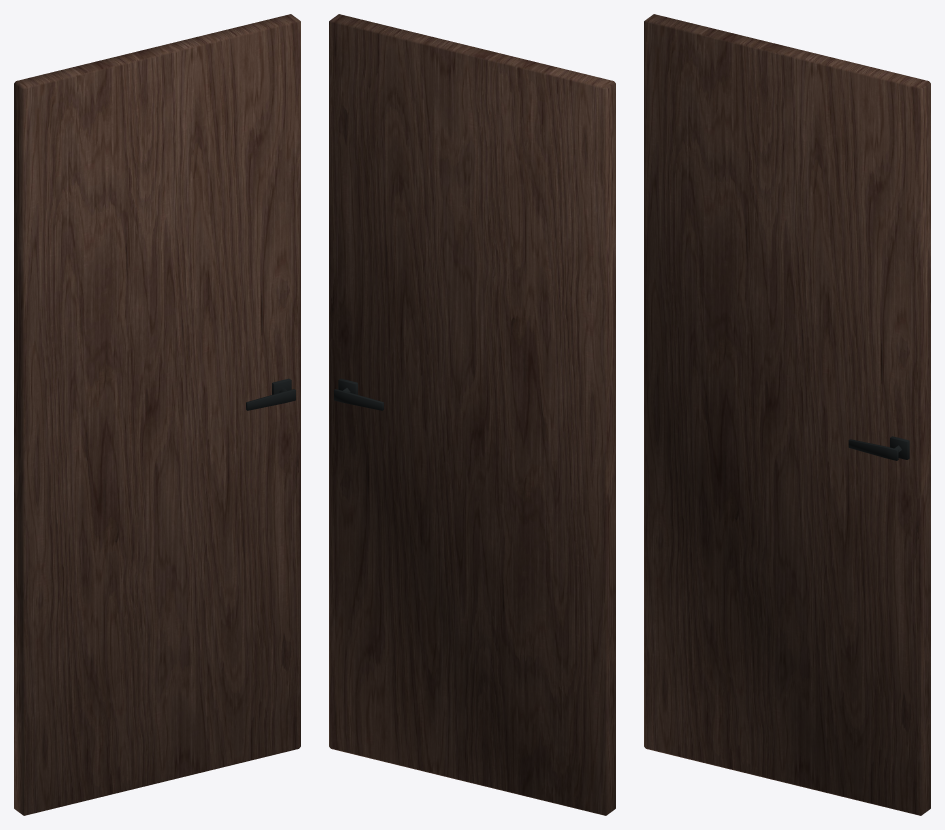
The model's file is door_1.glb.
3 renders of one model, left to right at view 1: azimuth 30°, elevation 25°; view 2: azimuth 150°, elevation 25°; view 3: azimuth 330°, elevation 25°, orthographic.
Visible parts, largest first — view 1: Door1_Door1_0; view 2: Door1_Door1_0; view 3: Door1_Door1_0.
Boxes of the visible parts, box(x1,y1,x2,y2) form: Door1_Door1_0: box(14, 14, 300, 815); Door1_Door1_0: box(329, 14, 615, 815); Door1_Door1_0: box(644, 14, 930, 815).
Size of the model in its own units: 0.8 by 2 by 0.144.
Materials: 1 (1 with a texture image).
